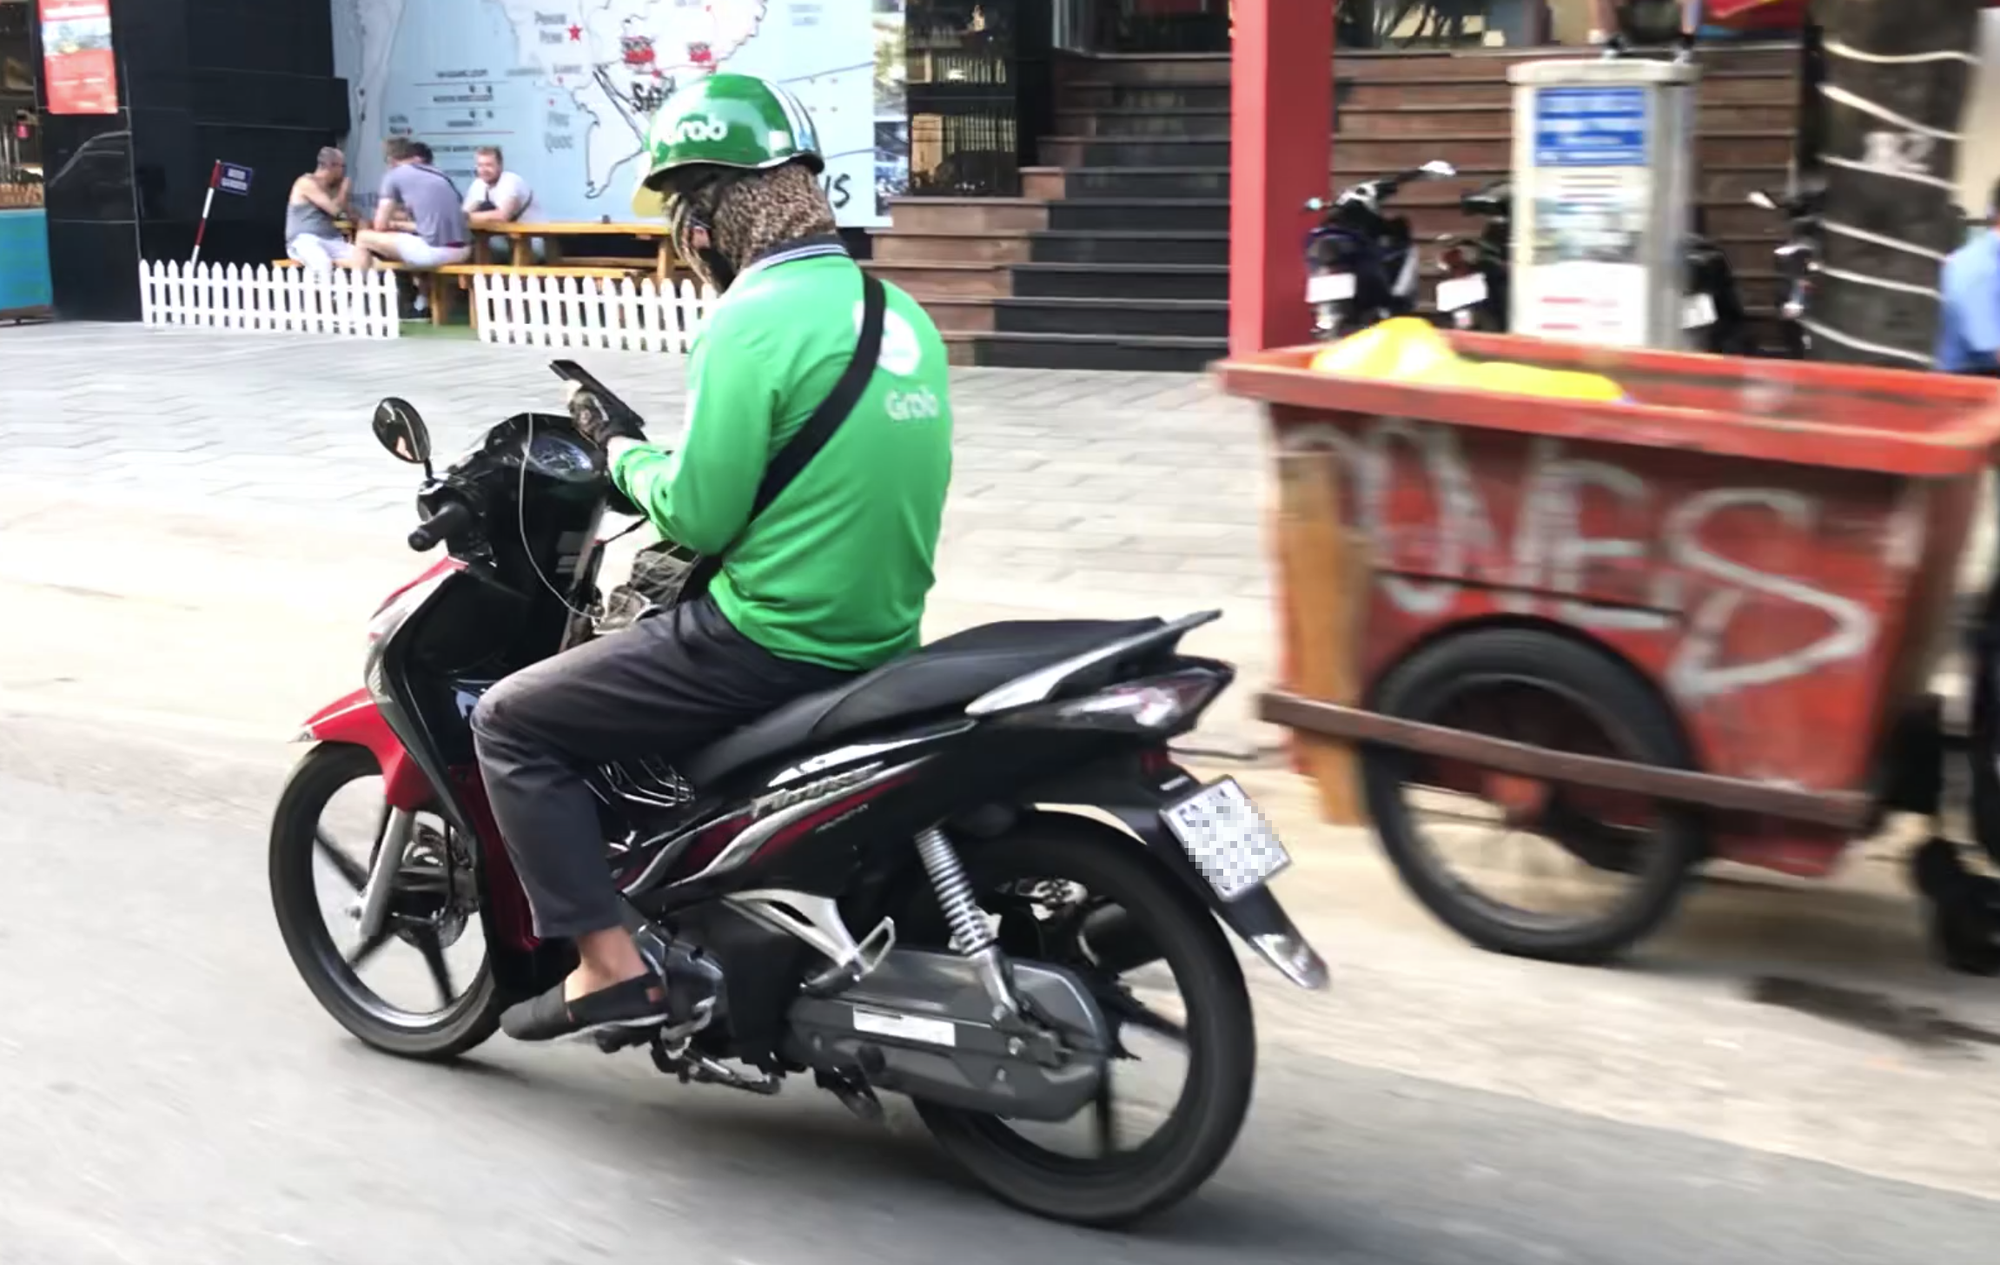dieu khien xe may: (357, 71, 942, 896)
su dung dien thoai: (542, 77, 826, 465)
